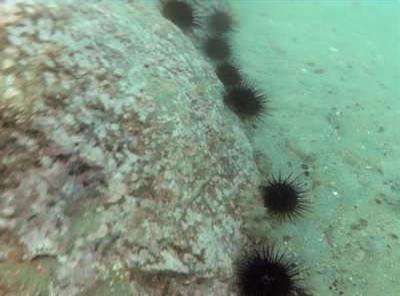urchin: (237, 253, 300, 296), (259, 177, 301, 218), (223, 84, 268, 120), (160, 0, 198, 30), (215, 59, 248, 87), (202, 35, 232, 60), (209, 7, 234, 33)
